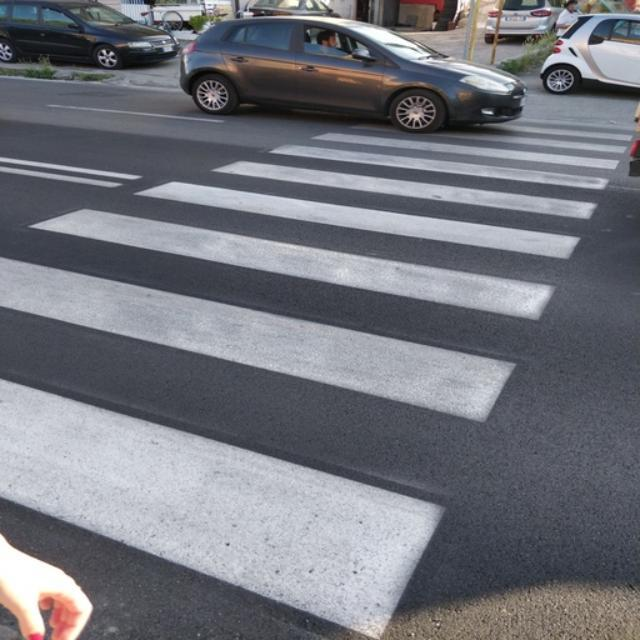sidewalk: (1, 121, 632, 640)
